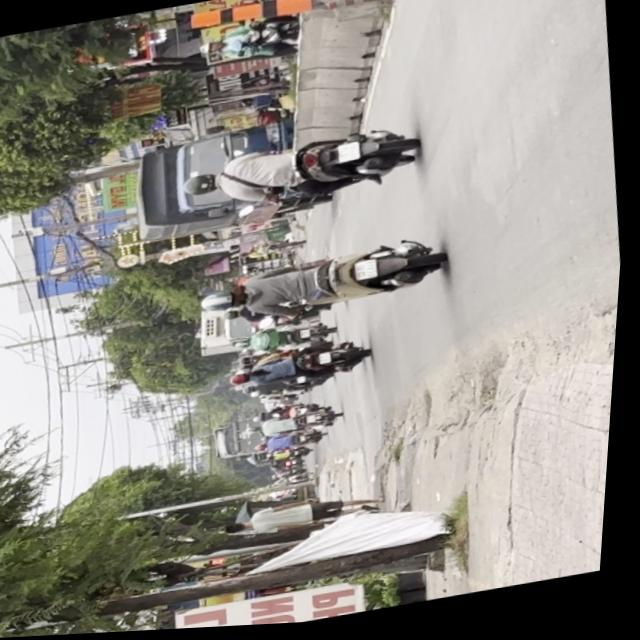helmet: (199, 288, 246, 317), (180, 173, 220, 199)
licenseplate: (197, 235, 452, 333), (178, 122, 424, 221)
nohelmet: (356, 262, 380, 283), (338, 144, 362, 165)
